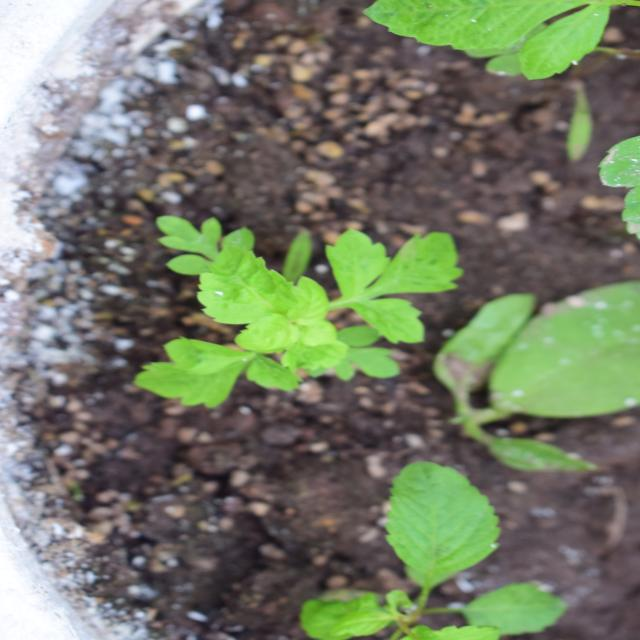Bidens pilosa: (208, 177, 427, 542)
